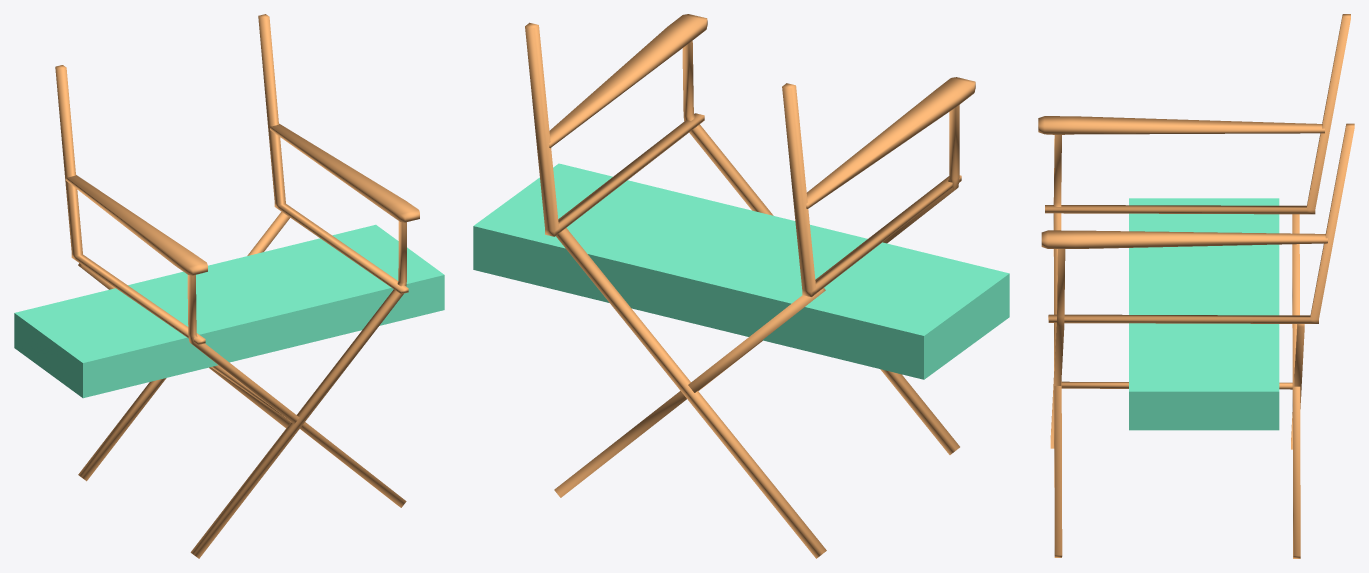
File: Run_00_2204_2405.fbx
3 renders of one model, left to right at view 1: azimuth 30°, elevation 25°; view 2: azimuth 150°, elevation 25°; view 3: azimuth 270°, elevation 25°, orthographic. The views are drawn at different scales.
Parts seen in each view (by area): view 1: Caixa_Peso, Directors_chair_wood; view 2: Caixa_Peso, Directors_chair_wood; view 3: Caixa_Peso, Directors_chair_wood.
Boxes of the visible parts, left/top/right/bottom form: Caixa_Peso: left=14, top=224, right=444, bottom=398; Directors_chair_wood: left=55, top=14, right=419, bottom=558; Caixa_Peso: left=473, top=163, right=1009, bottom=379; Directors_chair_wood: left=525, top=14, right=975, bottom=558; Caixa_Peso: left=1129, top=198, right=1279, bottom=430; Directors_chair_wood: left=1038, top=14, right=1354, bottom=558.
Bounding box in the file's own units: 69.69 × 72.93 × 48.22.
